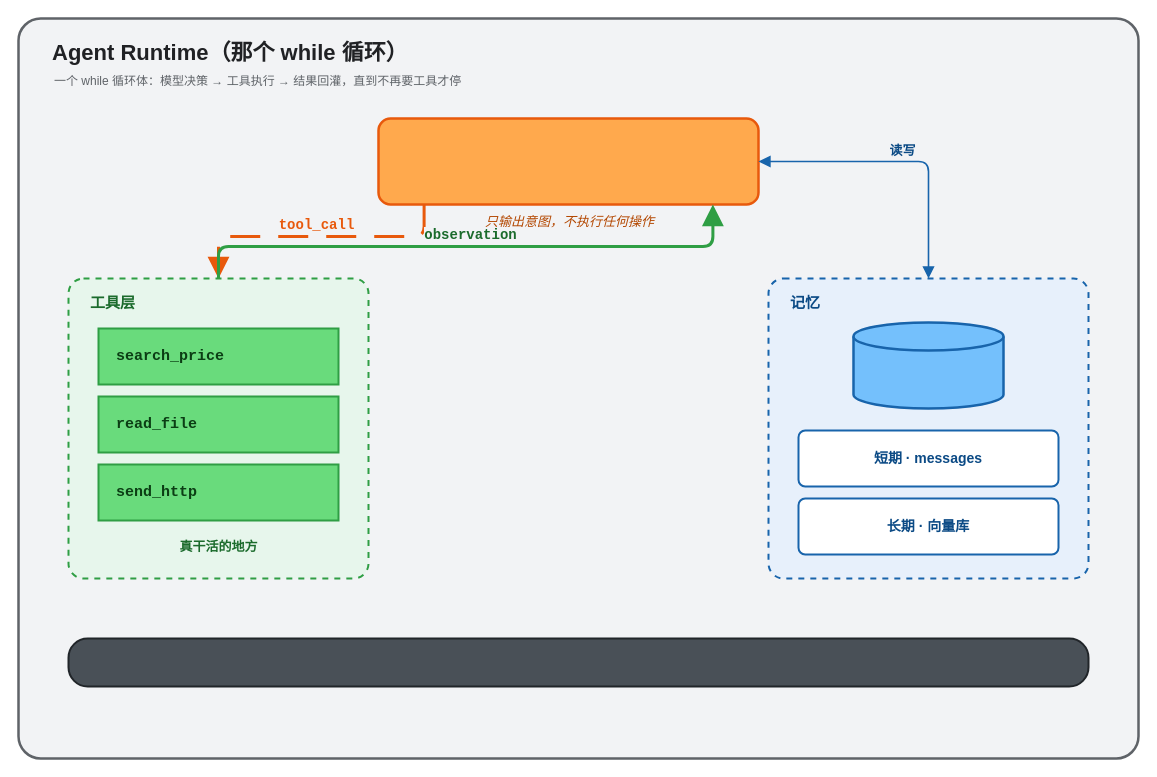
Some shapes in this 1157 by 777 pixel diagram are drawn without their labels. The shapes that lost their labels are listed below. From the top down, each one's centre as x and y in pixels, then its label:
pixel 568 161: LLM
pixel 928 365: MEMORY
pixel 578 662: ⎌ while 循环 · MAX_STEPS = 20 · 结束条件：无 tool_call
